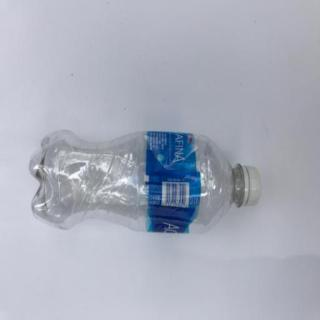Plastic-bottle: (29, 129, 264, 241)
